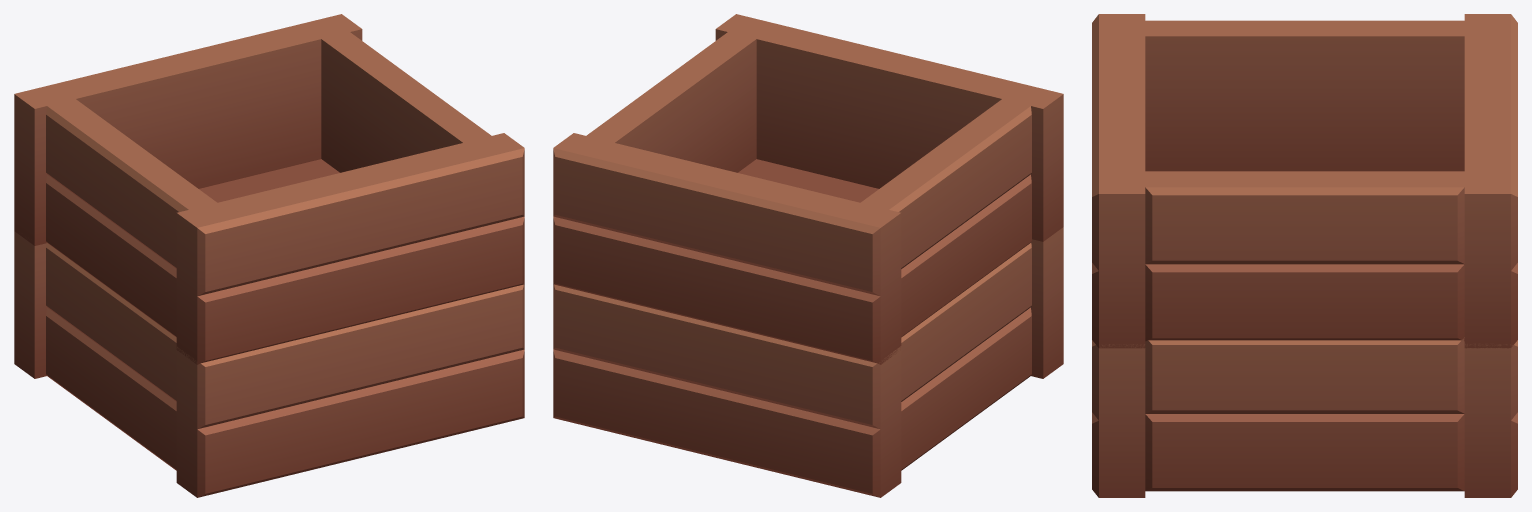
Rendered from woodenBox.fbx.
3 views of the same model, side by side, from view 1: azimuth 30°, elevation 25°; view 2: azimuth 150°, elevation 25°; view 3: azimuth 270°, elevation 25° (orthographic). The views are drawn at different scales.
Visible parts, largest first — view 1: crate, crate.001; view 2: crate, crate.001; view 3: crate, crate.001.
Boxes of the visible parts, x1=… form: crate: x1=14, y1=14, x2=524, y2=364; crate.001: x1=14, y1=231, x2=524, y2=497; crate: x1=553, y1=14, x2=1063, y2=364; crate.001: x1=553, y1=227, x2=1063, y2=497; crate: x1=1092, y1=14, x2=1517, y2=348; crate.001: x1=1092, y1=337, x2=1517, y2=497.
Bounding box in the file's own units: 200 × 158 × 200.
2 materials, 2 textured.
